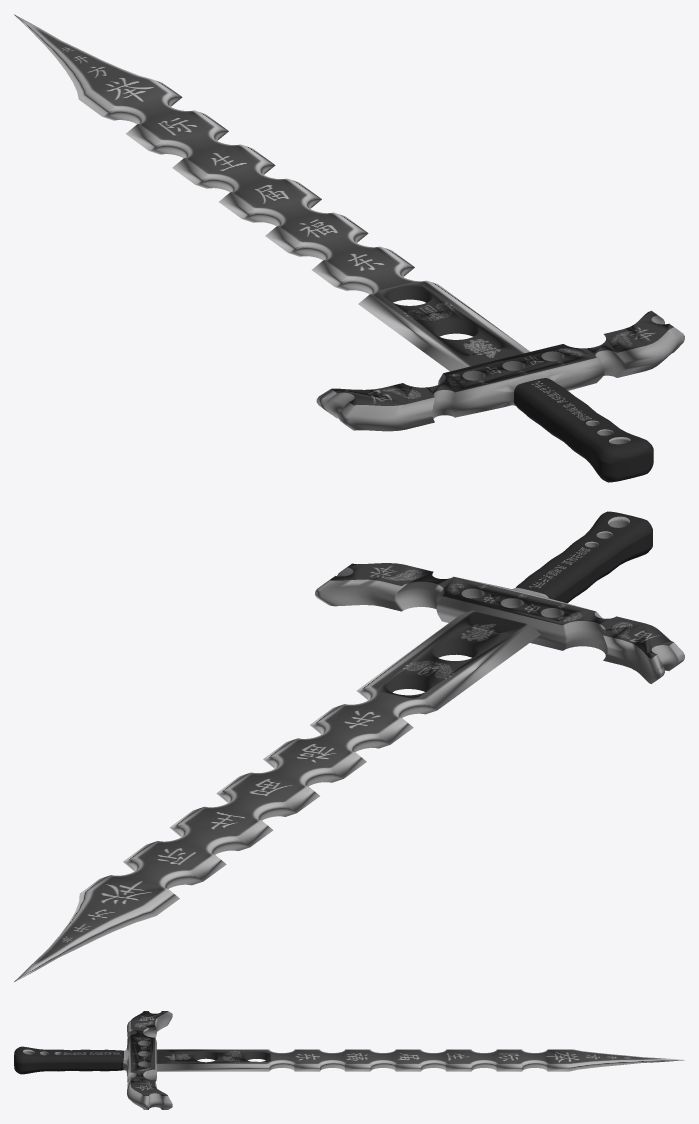
Rendered from rzr.obj.
3 views of the same model, one above another, from view 1: azimuth 30°, elevation 25°; view 2: azimuth 150°, elevation 25°; view 3: azimuth 270°, elevation 25° (orthographic). The views are drawn at different scales.
Visible parts, largest first — view 1: Line01, Rectangle01; view 2: Line01, Rectangle01; view 3: Line01, Rectangle01.
Part boxes in pixels (x1,y1,x2,y2): Line01: (14, 14, 530, 371); Rectangle01: (316, 310, 684, 482); Line01: (14, 610, 540, 982); Rectangle01: (315, 511, 684, 683); Line01: (156, 1049, 684, 1071); Rectangle01: (14, 1011, 172, 1109).
Bounding box in the file's own units: 84.66 × 7.97 × 266.
Materials: 2 (2 with a texture image).
